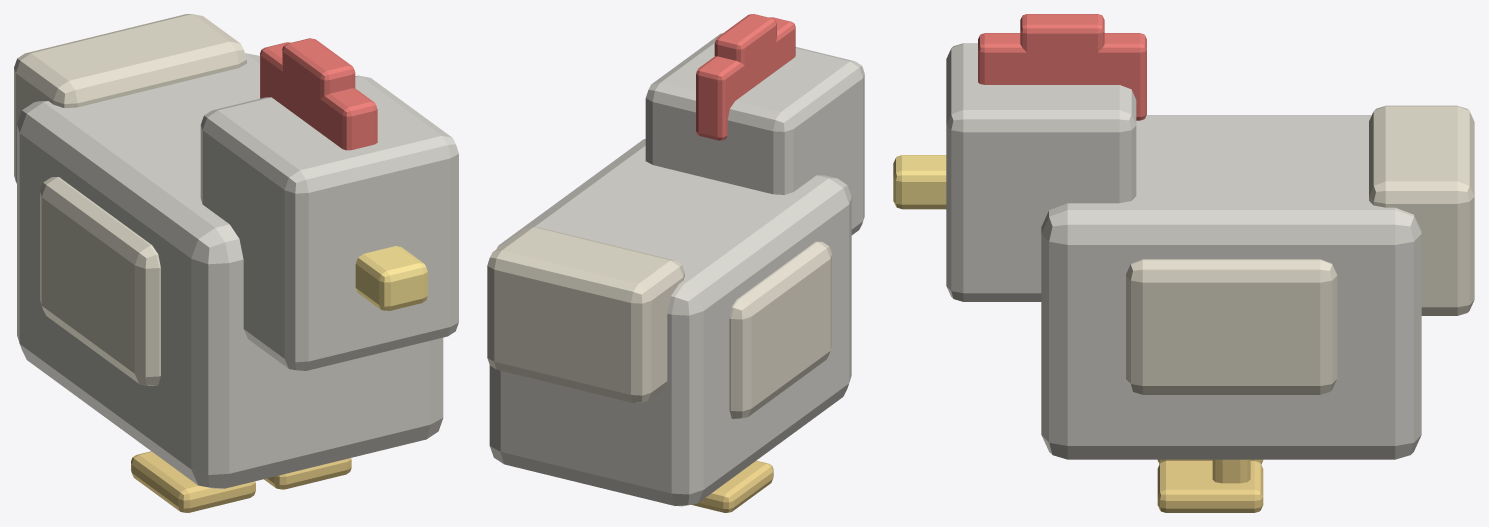
File: chicken.glb
3 views of the same model, side by side, from view 1: azimuth 30°, elevation 25°; view 2: azimuth 150°, elevation 25°; view 3: azimuth 270°, elevation 25° (orthographic). The views are drawn at different scales.
Parts seen in each view (by area): view 1: Body, Head, Wing_L, Tail, Comb_M, Beak, Foot_L, Comb_F, Comb_B, Foot_R; view 2: Body, Tail, Head, Wing_L, Comb_B, Comb_M, Foot_L, Comb_F; view 3: Body, Head, Wing_R, Tail, Comb_M, Foot_R, Comb_B, Comb_F, Beak, Leg_R.
Boxes of the visible parts, x1,y1,x2,y2 form: Body: (17, 53, 443, 488); Head: (200, 75, 458, 370); Wing_L: (40, 177, 160, 385); Tail: (14, 14, 246, 183); Comb_M: (282, 38, 355, 132); Beak: (355, 246, 427, 310); Foot_L: (131, 451, 255, 512); Comb_F: (311, 88, 377, 150); Comb_B: (260, 42, 297, 115); Foot_R: (264, 458, 351, 489); Body: (489, 139, 851, 506); Tail: (487, 227, 684, 402); Head: (645, 33, 864, 234); Wing_L: (729, 241, 831, 418); Comb_B: (696, 56, 744, 140); Comb_M: (714, 14, 776, 93); Foot_L: (691, 460, 773, 512); Comb_F: (770, 17, 795, 70); Body: (1041, 115, 1421, 459); Head: (946, 43, 1136, 301); Wing_R: (1126, 259, 1337, 394); Tail: (1369, 105, 1474, 315); Comb_M: (1020, 14, 1104, 84); Foot_R: (1157, 461, 1263, 512); Comb_B: (1069, 33, 1146, 120); Comb_F: (978, 33, 1055, 84); Beak: (893, 155, 946, 209); Leg_R: (1212, 459, 1250, 483).
Bounding box in the file's own units: 0.296 × 0.48 × 0.55.
